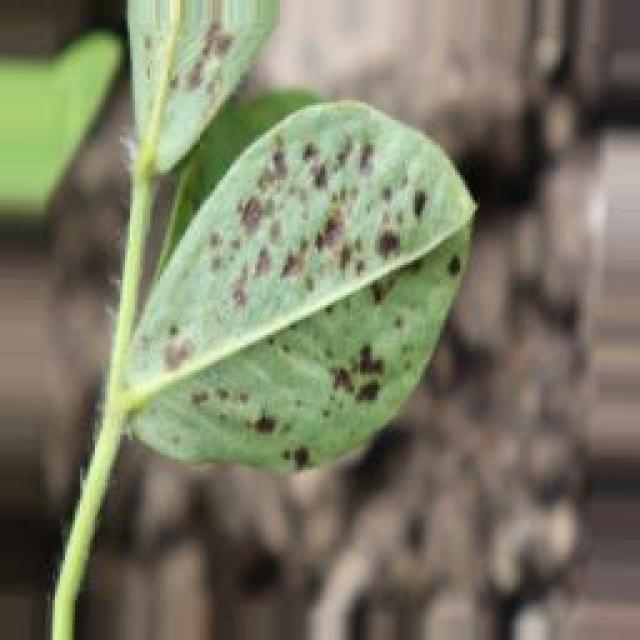Whitefly: (53, 0, 445, 495)
